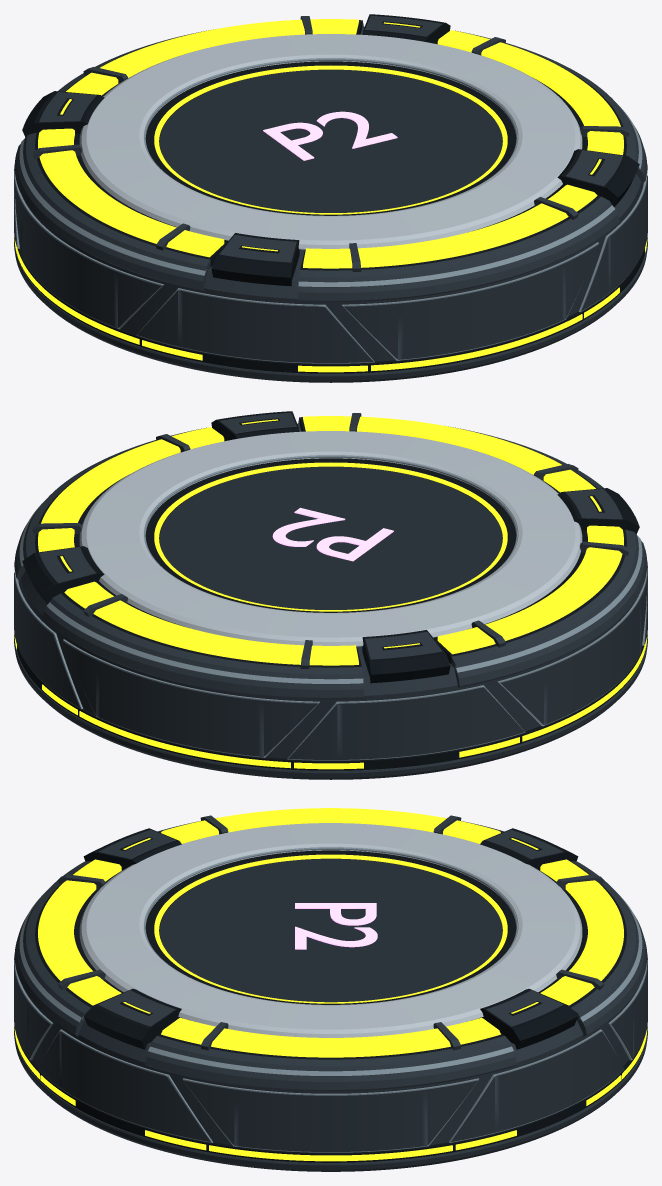
The model's file is Compact.fbx.
3 renders of one model, top to bottom at view 1: azimuth 30°, elevation 25°; view 2: azimuth 150°, elevation 25°; view 3: azimuth 270°, elevation 25°, orthographic.
Visible parts, largest first — view 1: SM_Puck_Compact_P2_HighDetail; view 2: SM_Puck_Compact_P2_HighDetail; view 3: SM_Puck_Compact_P2_HighDetail.
Boxes of the visible parts, <box> form: SM_Puck_Compact_P2_HighDetail: <box>14,14,647,382</box>; SM_Puck_Compact_P2_HighDetail: <box>14,411,647,779</box>; SM_Puck_Compact_P2_HighDetail: <box>14,808,647,1171</box>.
Bounding box in the file's own units: 71.9 × 71.9 × 14.7.
